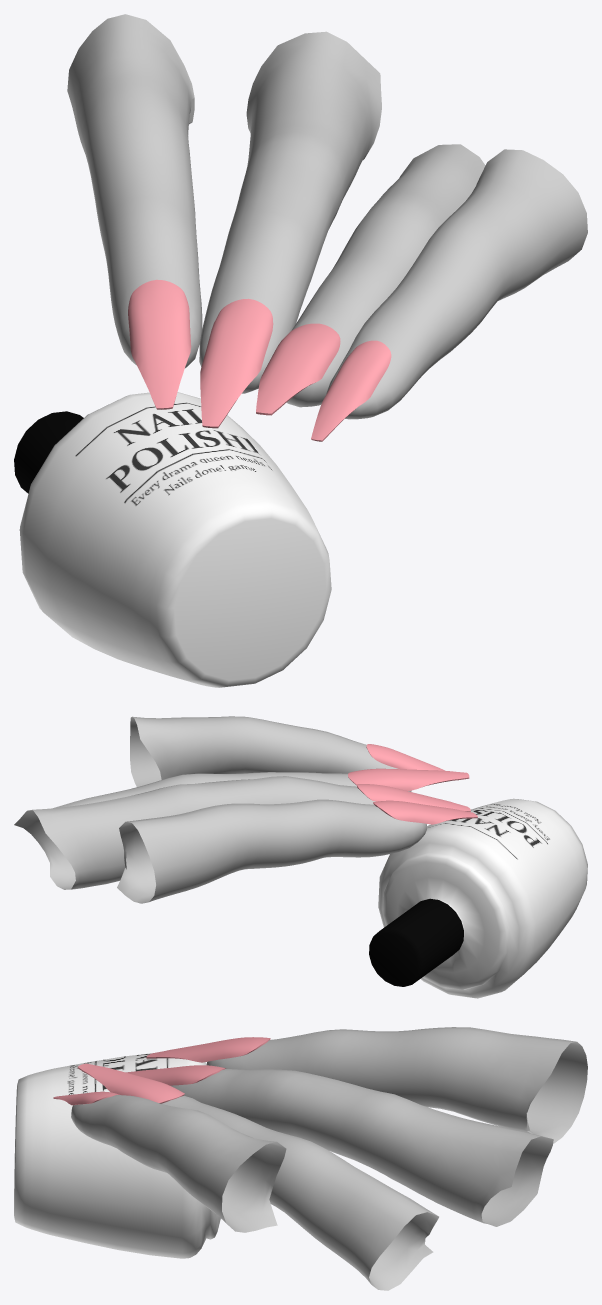
File: 拿指甲油_11_15.FBX
3 views of the same model, one above another, from view 1: azimuth 30°, elevation 25°; view 2: azimuth 150°, elevation 25°; view 3: azimuth 270°, elevation 25° (orthographic). The views are drawn at different scales.
Visible parts, largest first — view 1: 对象001, 对象009, 对象010, 对象007, 组018, 对象008, Cylinder001; view 2: 对象001, 对象010, 对象009, 对象007, Cylinder001, 组018, 对象008; view 3: 对象009, 对象010, 对象001, 对象008, 对象007, 组018.
Part boxes in pixels (x1,y1,x2,y2): 对象001: (19, 392, 331, 687); 对象009: (199, 31, 381, 393); 对象010: (67, 14, 202, 368); 对象007: (326, 149, 587, 419); 组018: (128, 279, 391, 441); 对象008: (286, 144, 485, 407); Cylinder001: (14, 411, 83, 493); 对象001: (378, 798, 587, 998); 对象010: (117, 799, 426, 903); 对象009: (14, 776, 375, 889); 对象007: (130, 716, 397, 786); Cylinder001: (369, 898, 463, 986); 组018: (348, 744, 477, 824); 对象008: (53, 772, 411, 808); 对象009: (170, 1069, 553, 1226); 对象010: (206, 1027, 587, 1143); 对象001: (14, 1053, 220, 1258); 对象008: (161, 1095, 438, 1290); 对象007: (71, 1095, 286, 1232); 组018: (53, 1037, 270, 1105).
Size of the model in its own units: 4886 by 2968 by 5264.
